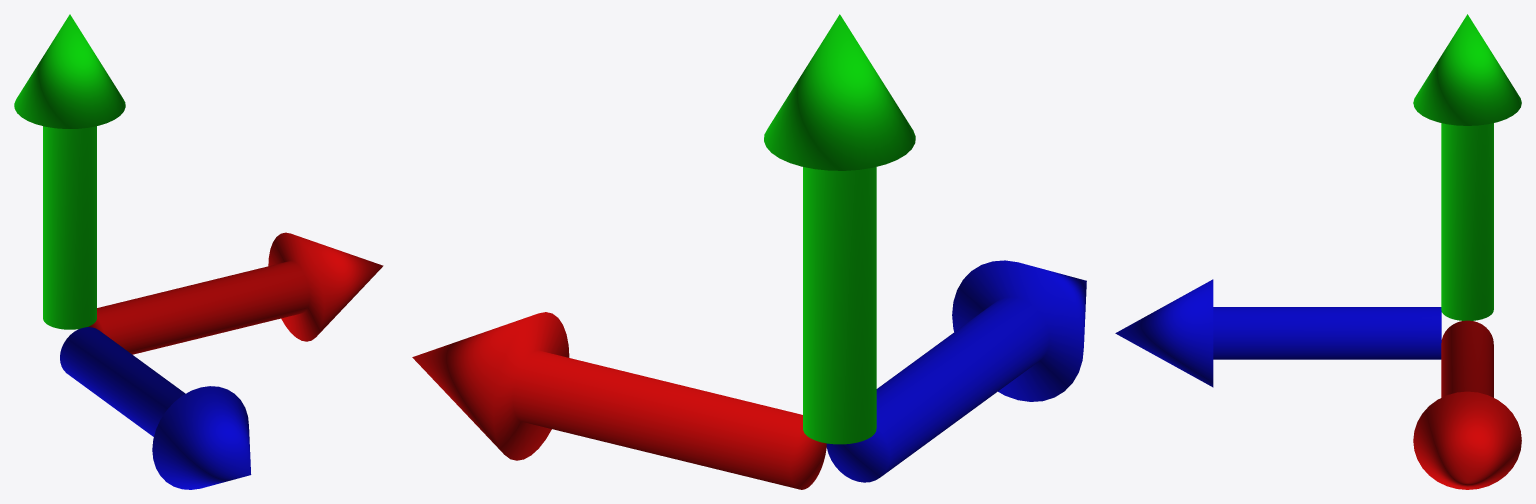
File: axis2.obj
3 views of the same model, side by side, from view 1: azimuth 30°, elevation 25°; view 2: azimuth 150°, elevation 25°; view 3: azimuth 270°, elevation 25° (orthographic). The views are drawn at different scales.
Parts seen in each view (by area): view 1: Cylinder.001; view 2: Cylinder.001; view 3: Cylinder.001.
Part boxes in pixels (x1,y1,x2,y2): Cylinder.001: [14, 14, 383, 489]; Cylinder.001: [412, 14, 1086, 489]; Cylinder.001: [1115, 14, 1521, 489].
Size of the model in its own units: 6.03 by 6.03 by 6.03.
